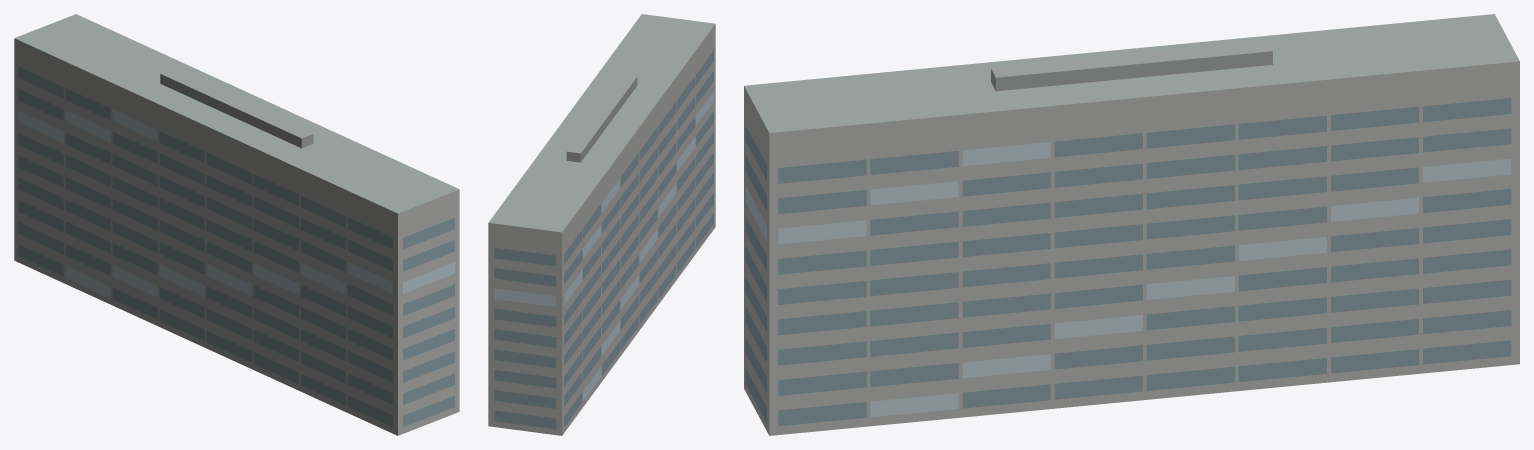
Rendered from fallback-olympic-athletes-village-231.glb.
3 renders of one model, left to right at view 1: azimuth 30°, elevation 25°; view 2: azimuth 150°, elevation 25°; view 3: azimuth 270°, elevation 25°, orthographic. The views are drawn at different scales.
Visible parts, largest first — view 1: fallback-olympic-athletes-village-231; view 2: fallback-olympic-athletes-village-231; view 3: fallback-olympic-athletes-village-231.
Boxes of the visible parts, box(x1,y1,x2,y2) form: fallback-olympic-athletes-village-231: box(14, 14, 459, 435); fallback-olympic-athletes-village-231: box(488, 14, 715, 435); fallback-olympic-athletes-village-231: box(744, 14, 1519, 435).
Size of the model in its own units: 25.72 by 31.87 by 70.82.
